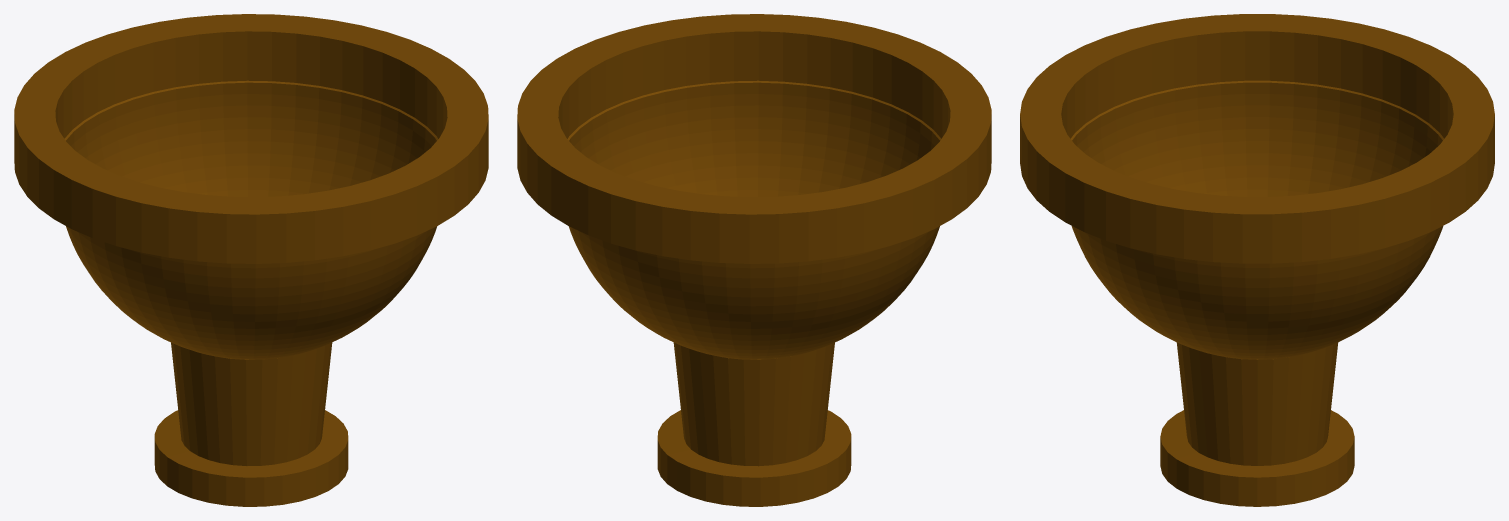
Rendered from Torche.fbx.
The picture shows the model from 3 angles, left to right: view 1: azimuth 30°, elevation 25°; view 2: azimuth 150°, elevation 25°; view 3: azimuth 270°, elevation 25°; orthographic projection.
Parts seen in each view (by area): view 1: Circle; view 2: Circle; view 3: Circle.
Part boxes in pixels (bbox=[...]): Circle: bbox=[14, 14, 488, 506]; Circle: bbox=[517, 14, 991, 506]; Circle: bbox=[1020, 14, 1494, 506].
Bounding box in the file's own units: 43.47 × 35.6 × 43.56.
